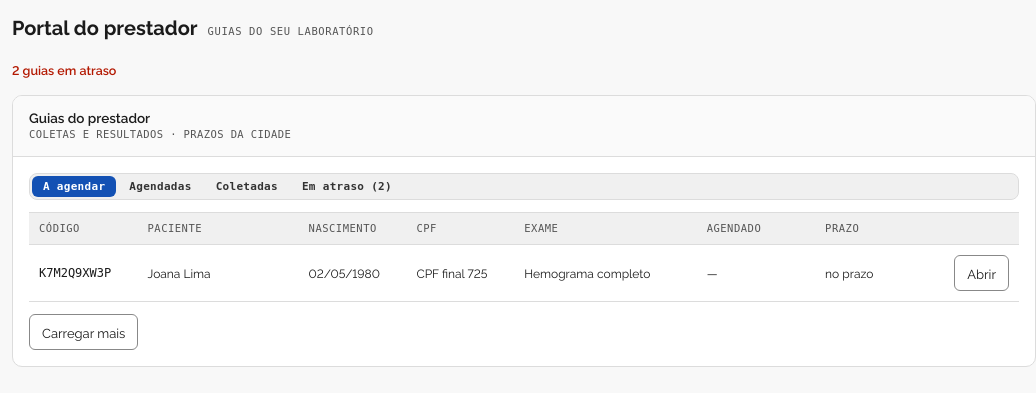
Test: ProviderPortal › Carregar mais manda o cursor da página anterior
The width and height of the screenshot is (1036, 393).
Click the button "Carregar mais". click: {"x": 84, "y": 332}
box: [29,314,138,350]
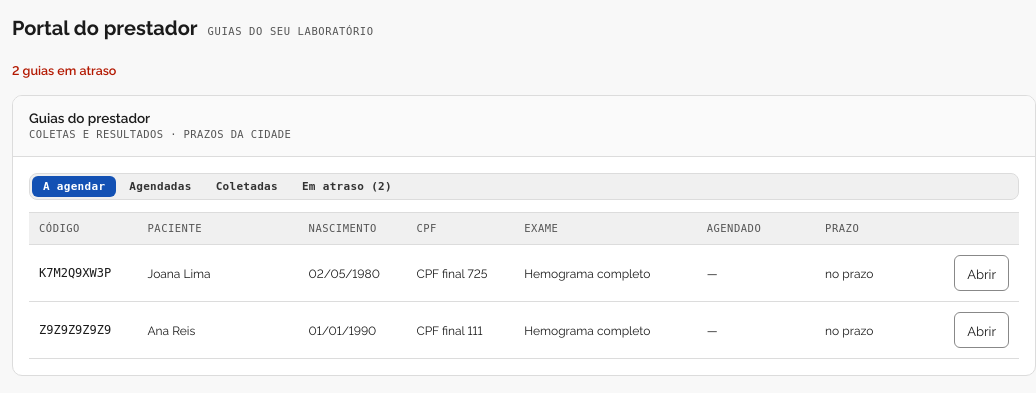
Expected: the text "Joana Lima" is shown, [148,264,211,281]
Expected: the text "Ana Reis" is shown, [148,321,195,338]
Expected: the button "Carregar mais" is gone
